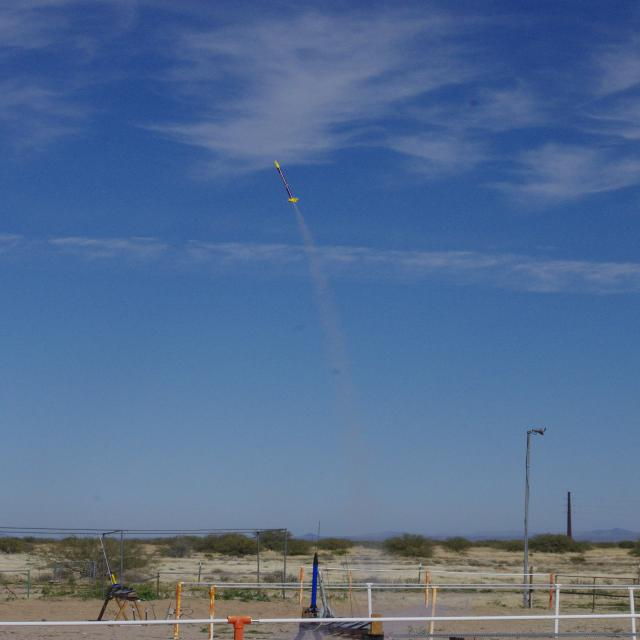Rocket: (274, 160, 298, 203), (304, 553, 321, 613), (318, 570, 336, 618), (110, 570, 120, 586)
